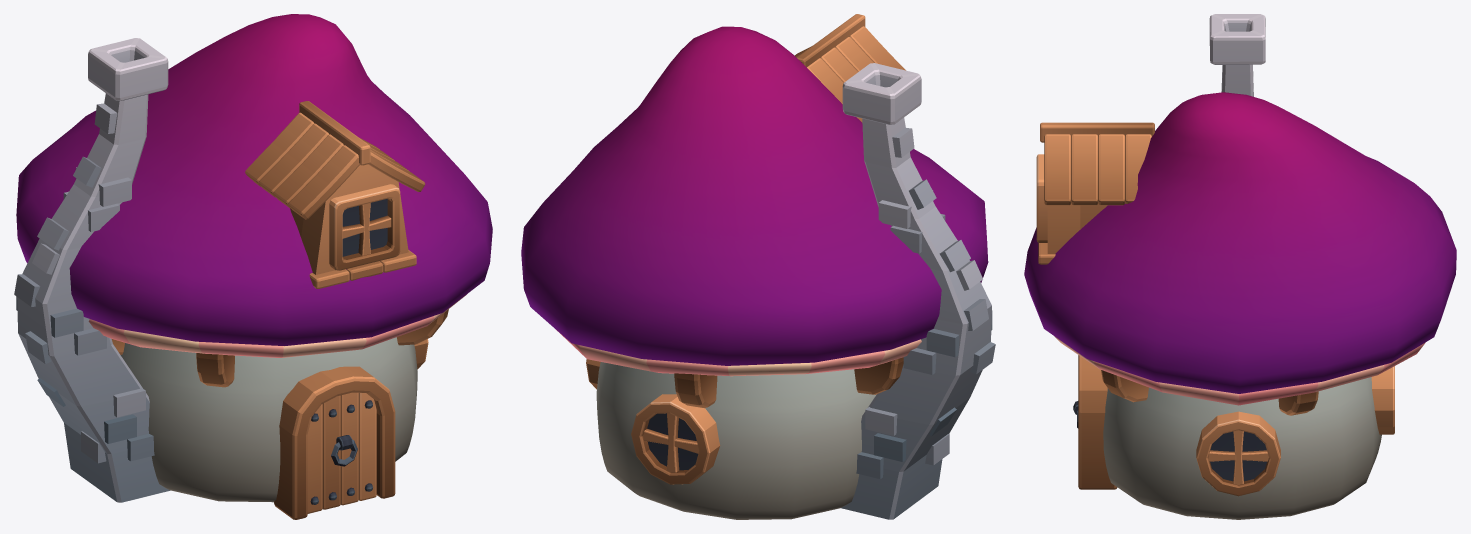
File: mt_house03.fbx
3 renders of one model, left to right at view 1: azimuth 30°, elevation 25°; view 2: azimuth 150°, elevation 25°; view 3: azimuth 270°, elevation 25°, orthographic. The views are drawn at different scales.
Parts seen in each view (by area): view 1: h3; view 2: h3; view 3: h3.
Part boxes in pixels (box(x1,y1,x2,y2)): h3: box(14, 14, 492, 519); h3: box(521, 14, 995, 519); h3: box(1024, 14, 1456, 519).
Bounding box in the file's own units: 710 × 659 × 670.
